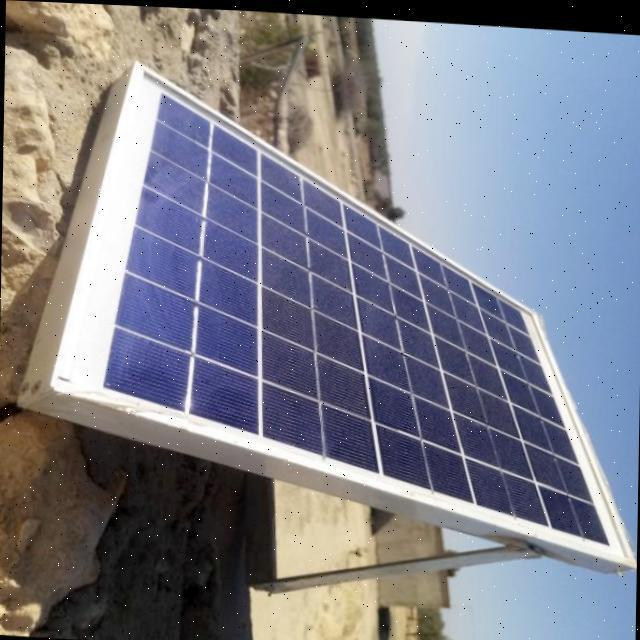Normal Solar Panel: (52, 58, 639, 554)
